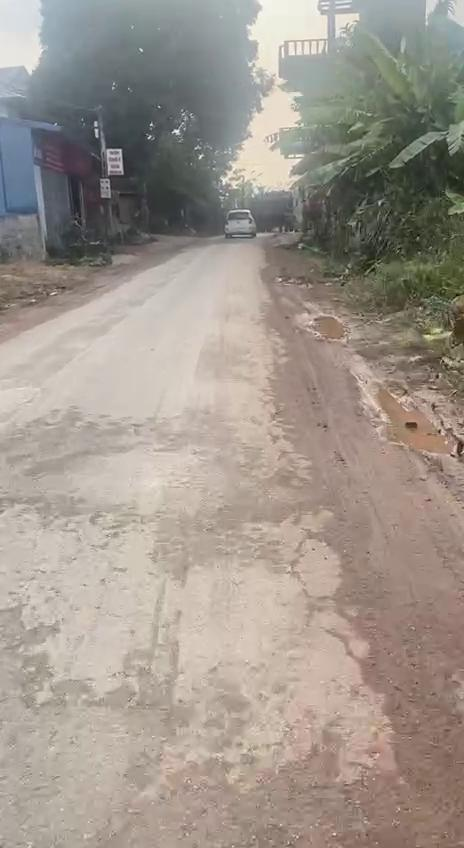pothole: (362, 370, 459, 460), (299, 310, 349, 344)
